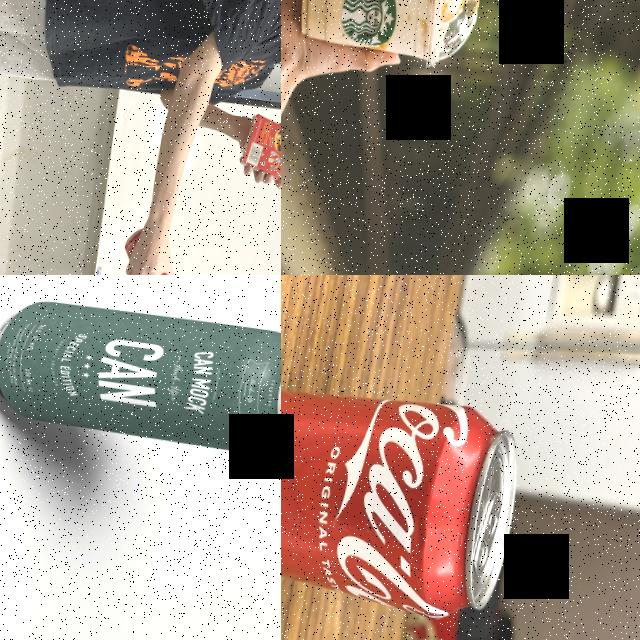can: (281, 368, 526, 628), (0, 291, 281, 465), (113, 225, 185, 275)
cup: (289, 0, 488, 74)
